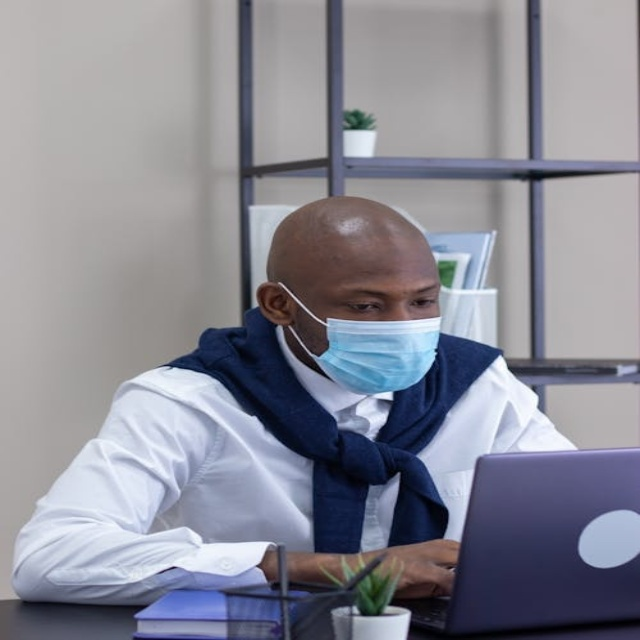Mascara: (284, 284, 442, 392)
Sin_gafas: (324, 281, 440, 314)
Sin_guantes: (335, 529, 463, 601)
